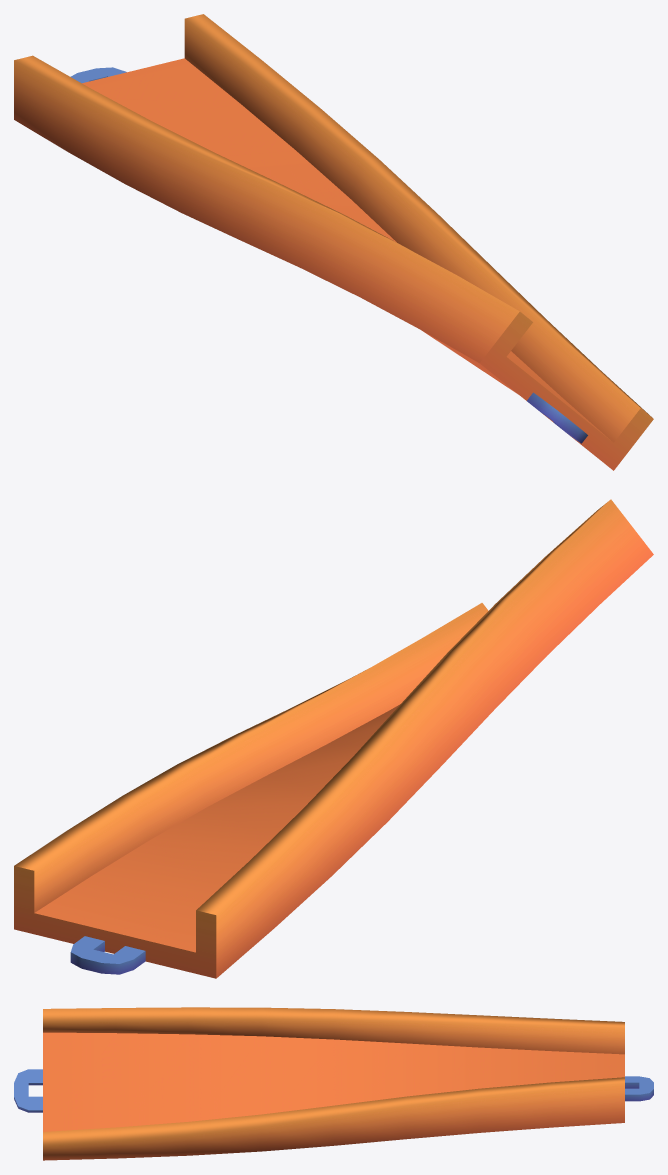
File: track-narrow-straight-skew-left.glb
3 views of the same model, one above another, from view 1: azimuth 30°, elevation 25°; view 2: azimuth 150°, elevation 25°; view 3: azimuth 270°, elevation 25° (orthographic). The views are drawn at different scales.
Visible parts, largest first — view 1: track-narrow-straight-skew-left; view 2: track-narrow-straight-skew-left; view 3: track-narrow-straight-skew-left.
Boxes of the visible parts, x1=… form: track-narrow-straight-skew-left: x1=14, y1=14, x2=653, y2=470; track-narrow-straight-skew-left: x1=14, y1=499, x2=653, y2=978; track-narrow-straight-skew-left: x1=14, y1=1007, x2=653, y2=1160.
Size of the model in its own units: 1.08 by 0.9193 by 4.4.
Materials: 1 (1 with a texture image).
